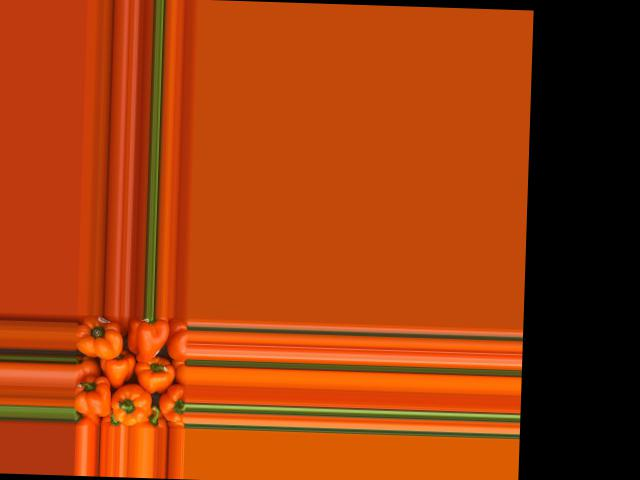bell_pepper: (167, 316, 187, 361)
